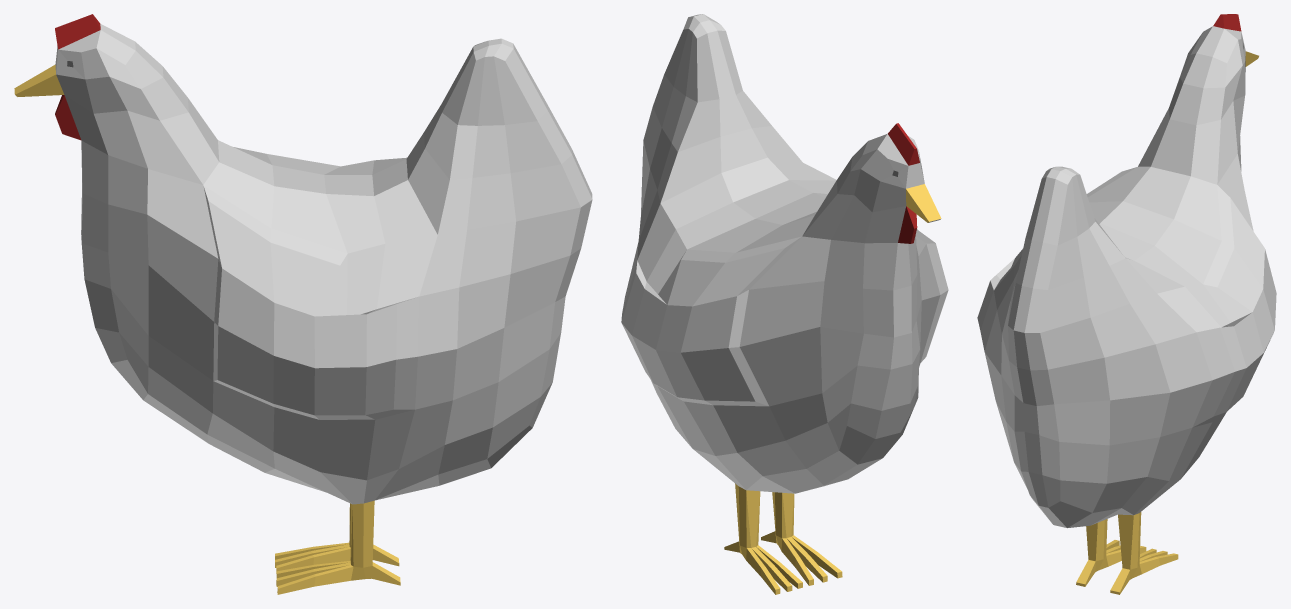
File: chicken.gltf
The picture shows the model from 3 angles, left to right: view 1: azimuth 30°, elevation 25°; view 2: azimuth 150°, elevation 25°; view 3: azimuth 270°, elevation 25°; orthographic projection. The views are drawn at different scales.
Parts seen in each view (by area): view 1: Chicken; view 2: Chicken; view 3: Chicken.
Boxes of the visible parts, x1,y1,x2,y2 form: Chicken: (14, 14, 592, 594); Chicken: (621, 14, 948, 594); Chicken: (977, 14, 1276, 594).
Bounding box in the file's own units: 0.3314 × 0.4005 × 0.2264.
